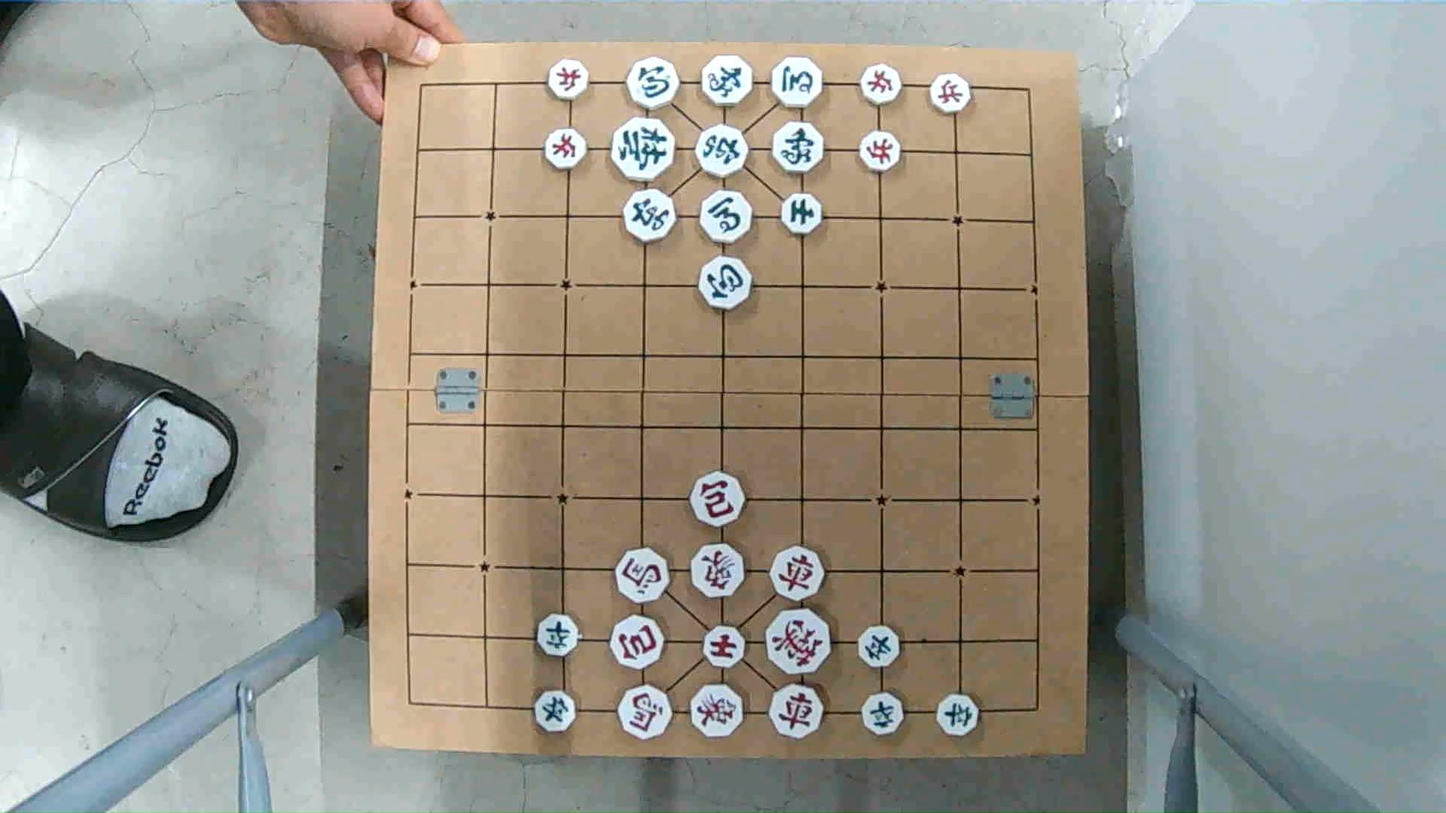cha_green: (694, 126, 750, 176), (622, 188, 673, 238)
cha_red: (770, 686, 827, 738), (771, 550, 828, 600)
jol_green: (857, 626, 903, 666), (537, 614, 580, 656), (535, 690, 578, 732), (862, 693, 906, 733), (938, 695, 980, 735)
jol_red: (542, 126, 587, 171), (857, 132, 901, 171), (861, 66, 905, 104), (547, 62, 590, 99), (929, 76, 973, 112)
ma_green: (700, 193, 758, 245), (772, 60, 827, 108)
ma_red: (618, 551, 675, 602), (620, 688, 676, 738)
po_green: (699, 257, 753, 309), (624, 57, 679, 105)
po_red: (612, 616, 668, 667), (691, 474, 748, 524)
sa_green: (780, 193, 823, 233)
sa_red: (703, 626, 748, 667)
sang_green: (771, 117, 825, 170), (700, 59, 755, 106)
sang_red: (687, 686, 744, 737), (693, 547, 745, 598)
wang_green: (610, 117, 675, 178)
wang_red: (767, 610, 834, 671)
